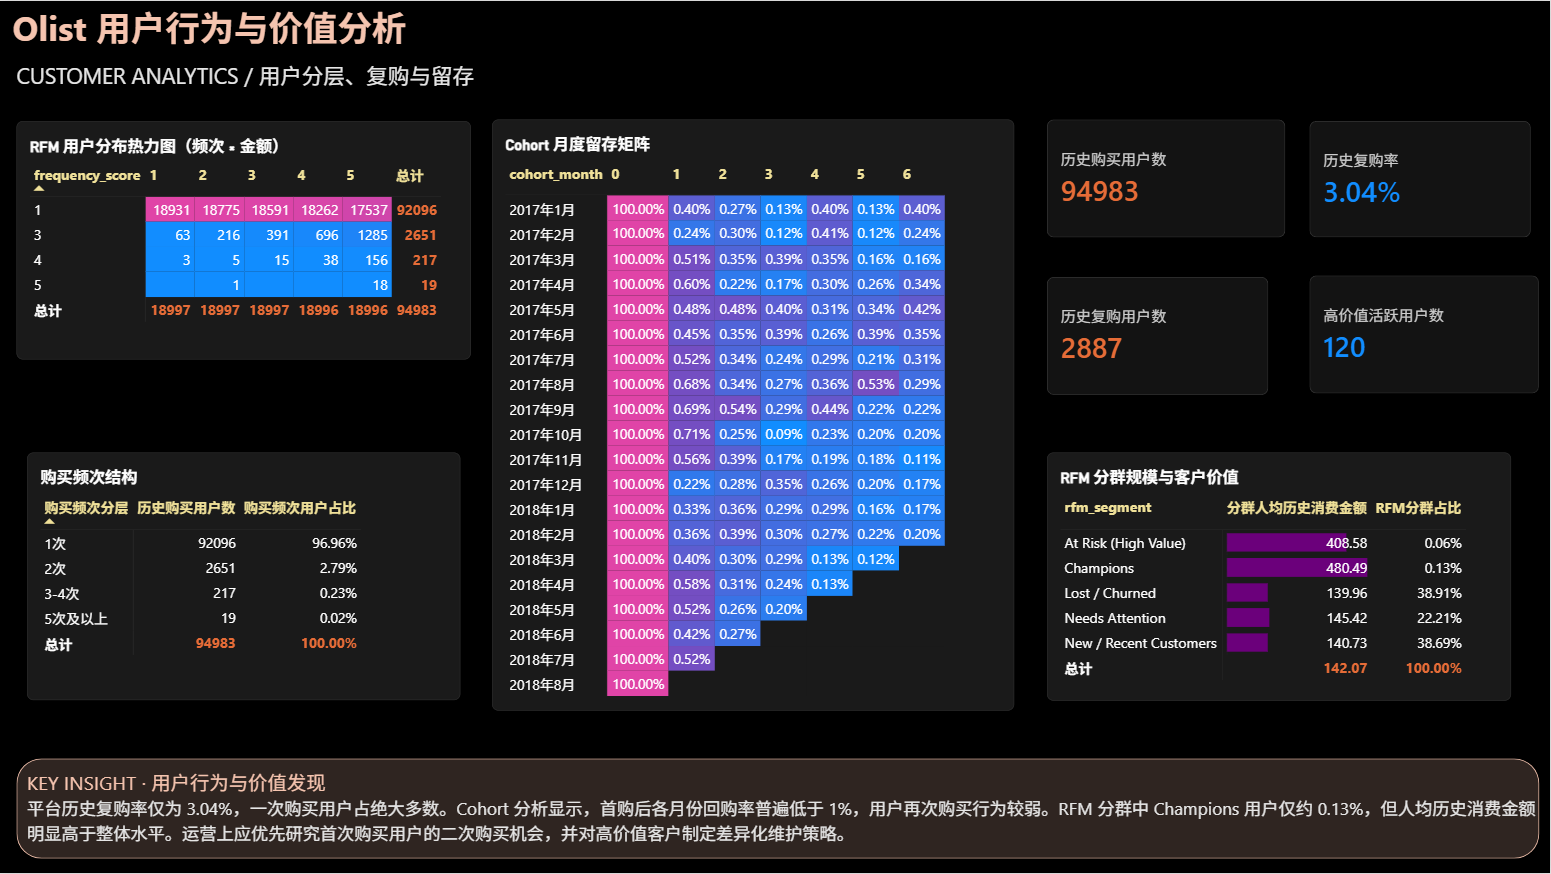

The dashboard page shown, as its layout file describes it:
{"tool":"powerbi","page":{"name":"03 | 用户行为与价值分析","canvas":[1920,1080],"ordinal":2},"visuals":[{"type":"cardVisual","title":"有效订单总数","fields":{"Data":["bi_dim_customers_rfm.历史复购用户数"]},"box":[1296.5,341.8,274.1,146.7],"z":0},{"type":"cardVisual","title":"客单价","fields":{"Data":["bi_dim_customers_rfm.高价值活跃用户数"]},"box":[1621.6,339.9,284.6,146.7],"z":1000},{"type":"cardVisual","title":"购买用户总数","fields":{"Data":["bi_dim_customers_rfm.历史购买用户数"]},"box":[1296.5,146.7,295.1,146.7],"z":2000},{"type":"cardVisual","title":"复购率","fields":{"Data":["bi_dim_customers_rfm.历史复购率"]},"box":[1621.6,148.6,274.1,144.9],"z":3000},{"type":"textbox","box":[0,0,518.6,73.3],"z":4000},{"type":"textbox","box":[21,73.3,630.3,55.9],"z":5000},{"type":"shape","box":[21,937.6,1885.7,124],"z":6000},{"type":"textbox","box":[33.4,949.2,1872.3,130],"z":7000},{"type":"pivotTable","title":"RFM 用户分布热力图（频次 × 金额）","fields":{"Columns":["bi_dim_customers_rfm.monetary_score"],"Rows":["bi_dim_customers_rfm.frequency_score"],"Values":["bi_dim_customers_rfm.RFM用户数"]},"box":[20.4,148.6,562.8,295.3],"z":8000},{"type":"pivotTable","title":"RFM 分群规模与客户价值","fields":{"Rows":["bi_dim_customers_rfm.rfm_segment"],"Values":["bi_dim_customers_rfm.分群人均历史消费金额","bi_dim_customers_rfm.RFM分群占比"]},"box":[1296.5,559.1,574.4,307.3],"z":9000},{"type":"pivotTable","title":"Cohort 月度留存矩阵","fields":{"Columns":["bi_customer_cohort_activity.month_index"],"Rows":["bi_customer_cohort_activity.cohort_month"],"Values":["bi_customer_cohort_activity.Cohort留存率_完整月"]},"box":[609.3,146.7,646.4,731.8],"z":10000},{"type":"pivotTable","title":"购买频次结构","fields":{"Rows":["bi_dim_customers_rfm.购买频次分层"],"Values":["bi_dim_customers_rfm.历史购买用户数","bi_dim_customers_rfm.购买频次用户占比"]},"box":[33.4,559.1,536.8,306.5],"z":11000}]}

Visuals, with their boxes in screenshot pixels (x1, y1, x2, y2), scaled from the page's 1920x1080 canvas onto the 1551x874 screenshot:
"有效订单总数" cardVisual: Rect(1047, 277, 1269, 395)
"客单价" cardVisual: Rect(1310, 275, 1540, 394)
"购买用户总数" cardVisual: Rect(1047, 119, 1286, 237)
"复购率" cardVisual: Rect(1310, 120, 1531, 238)
textbox: Rect(0, 0, 419, 59)
textbox: Rect(17, 59, 526, 105)
shape: Rect(17, 759, 1540, 859)
textbox: Rect(27, 768, 1539, 873)
"RFM 用户分布热力图（频次 × 金额）" pivotTable: Rect(16, 120, 471, 359)
"RFM 分群规模与客户价值" pivotTable: Rect(1047, 452, 1511, 701)
"Cohort 月度留存矩阵" pivotTable: Rect(492, 119, 1014, 711)
"购买频次结构" pivotTable: Rect(27, 452, 461, 700)
